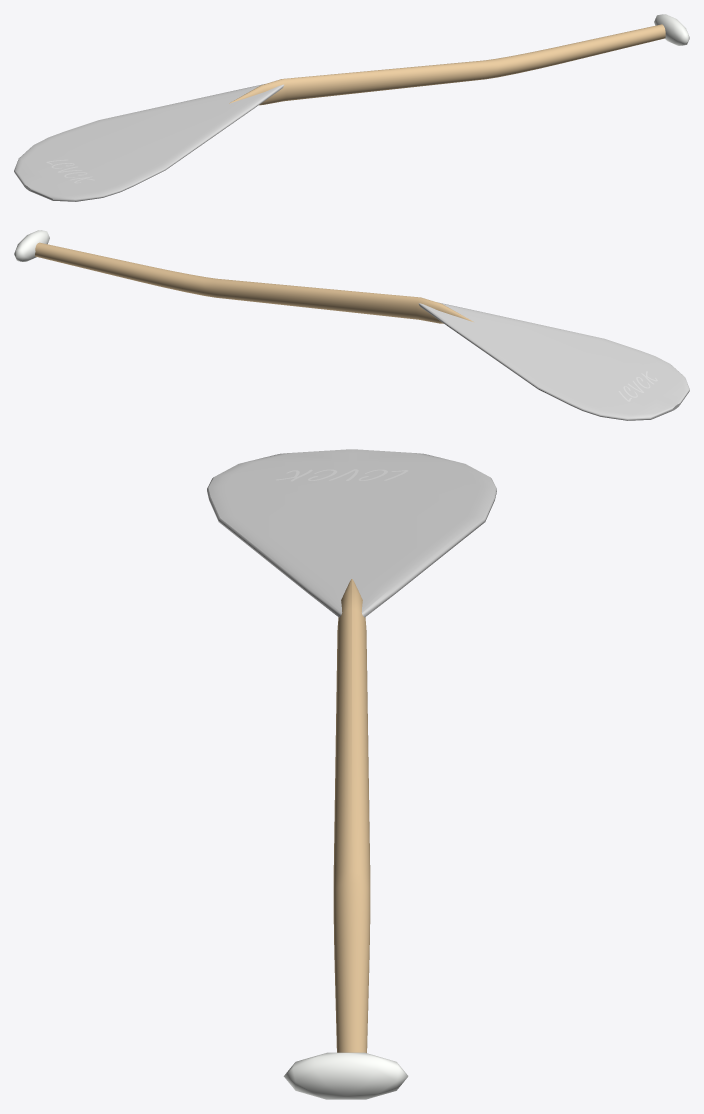
File: pagaiev2.gltf
3 views of the same model, one above another, from view 1: azimuth 30°, elevation 25°; view 2: azimuth 150°, elevation 25°; view 3: azimuth 270°, elevation 25° (orthographic). The views are drawn at different scales.
Visible parts, largest first — view 1: Icosphere.001; view 2: Icosphere.001; view 3: Icosphere.001.
Part boxes in pixels (x1,y1,x2,y2): Icosphere.001: [14, 14, 689, 201]; Icosphere.001: [14, 230, 689, 420]; Icosphere.001: [207, 449, 496, 1099].
Size of the model in its own units: 10.26 by 0.8414 by 1.98.
